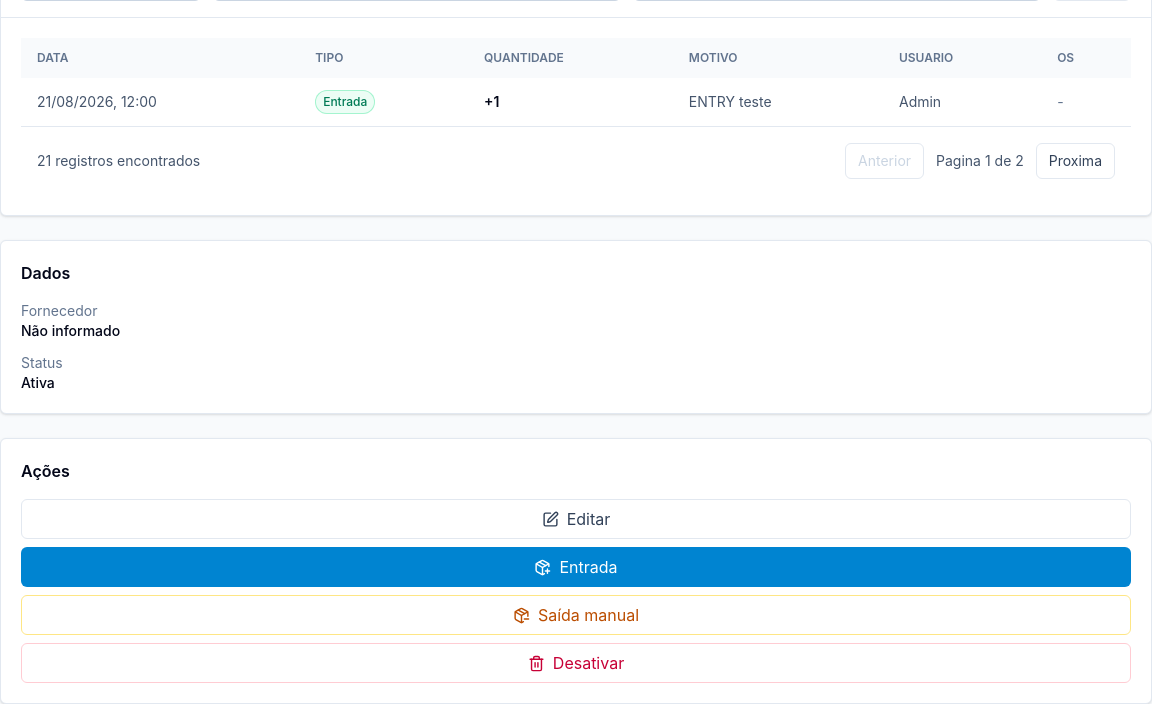
Test: PartDetailPage reliable stock › invalidates part and history after an entry
This screenshot has width=1152, height=704.
(page scrolled)
Click the button "Entrada" at point(576, 567), box [21, 547, 1131, 587]
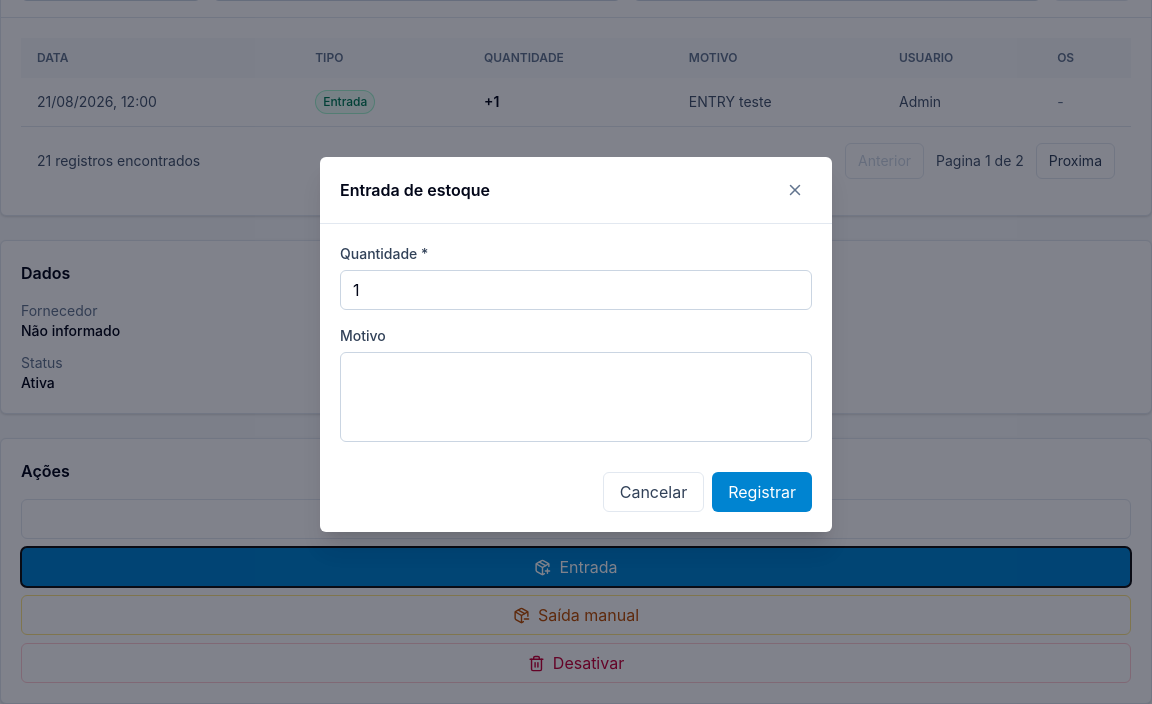
Click the button "Registrar" at point(762, 492), box [712, 472, 812, 512]
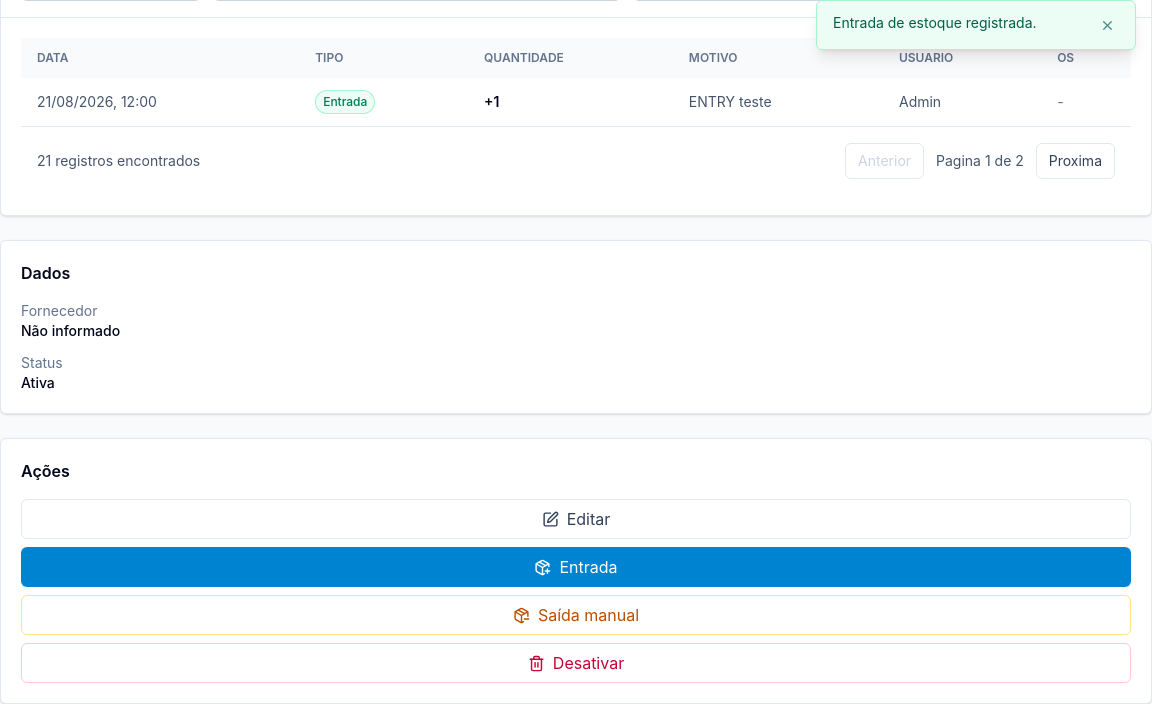
Expected: the dialog is gone
